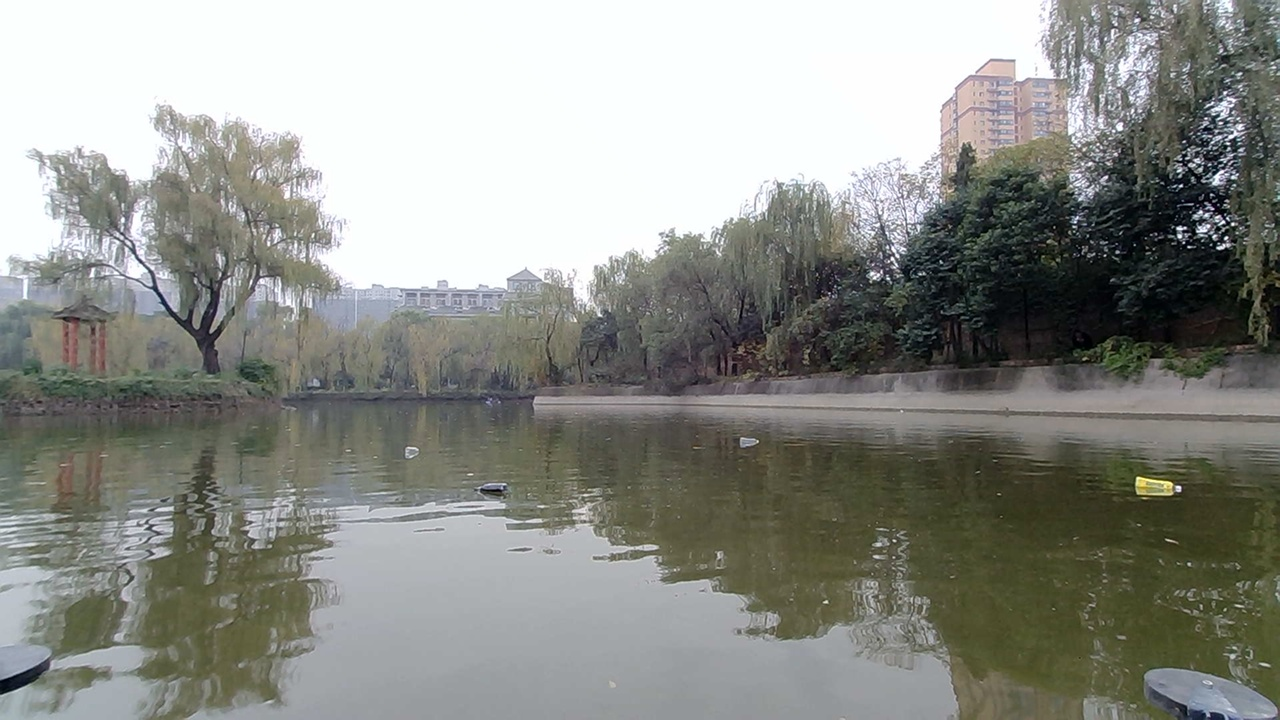bottle: (477, 475, 528, 509), (1133, 470, 1177, 504), (399, 440, 446, 470), (725, 420, 770, 448)
